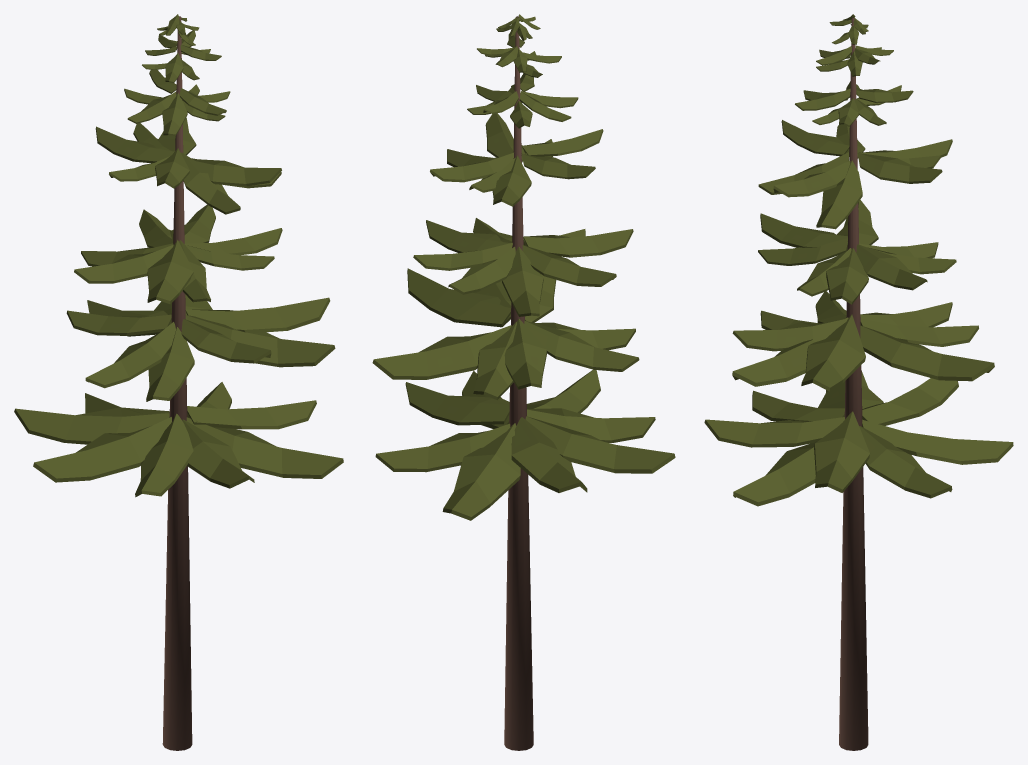
The model's file is fir1.fbx.
The picture shows the model from 3 angles, left to right: view 1: azimuth 30°, elevation 25°; view 2: azimuth 150°, elevation 25°; view 3: azimuth 270°, elevation 25°; orthographic projection.
Parts seen in each view (by area): view 1: Fir1; view 2: Fir1; view 3: Fir1.
Boxes of the visible parts, bbox=[...] form: Fir1: bbox=[14, 14, 343, 750]; Fir1: bbox=[372, 14, 675, 750]; Fir1: bbox=[704, 14, 1013, 750].
Size of the model in its own units: 636 by 1570 by 602.
